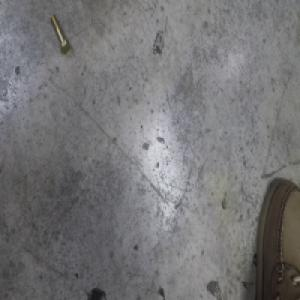Bolt: (49, 14, 70, 57)
